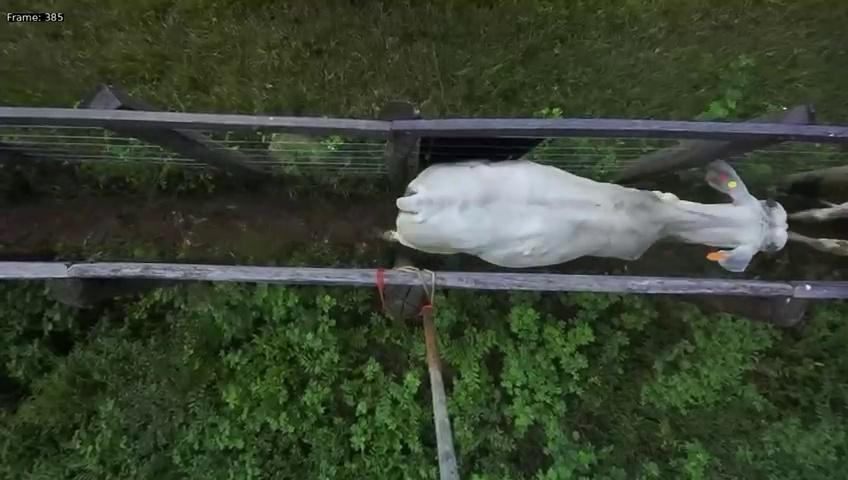cattle: (373, 126, 790, 275)
